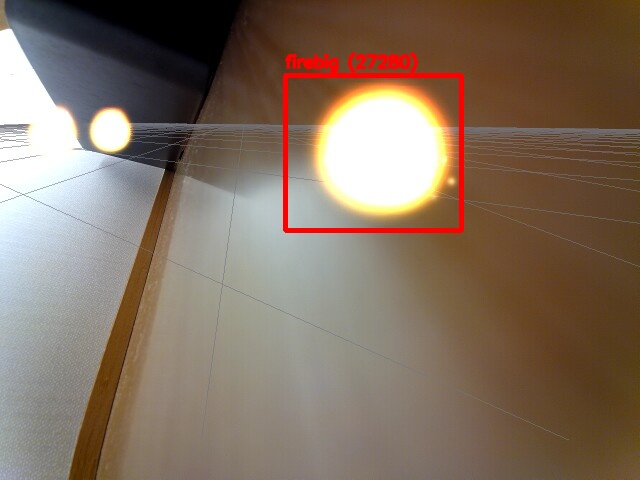firebig: (285, 75, 461, 230)
